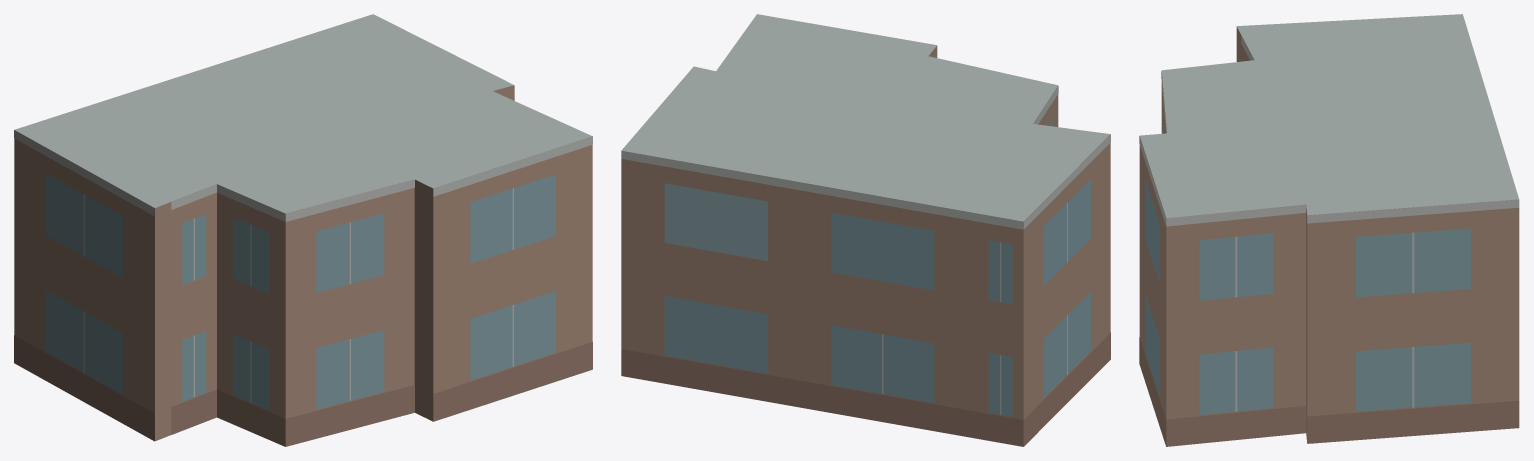
File: survey-upis-32803137.glb
3 renders of one model, left to right at view 1: azimuth 30°, elevation 25°; view 2: azimuth 150°, elevation 25°; view 3: azimuth 270°, elevation 25°, orthographic. The views are drawn at different scales.
Parts seen in each view (by area): view 1: survey-upis-32803137.tmp; view 2: survey-upis-32803137.tmp; view 3: survey-upis-32803137.tmp.
Part boxes in pixels (x1,y1,x2,y2): survey-upis-32803137.tmp: [14, 14, 592, 446]; survey-upis-32803137.tmp: [621, 14, 1110, 446]; survey-upis-32803137.tmp: [1139, 14, 1519, 446].
Bounding box in the file's own units: 12.95 × 6.75 × 10.18.
